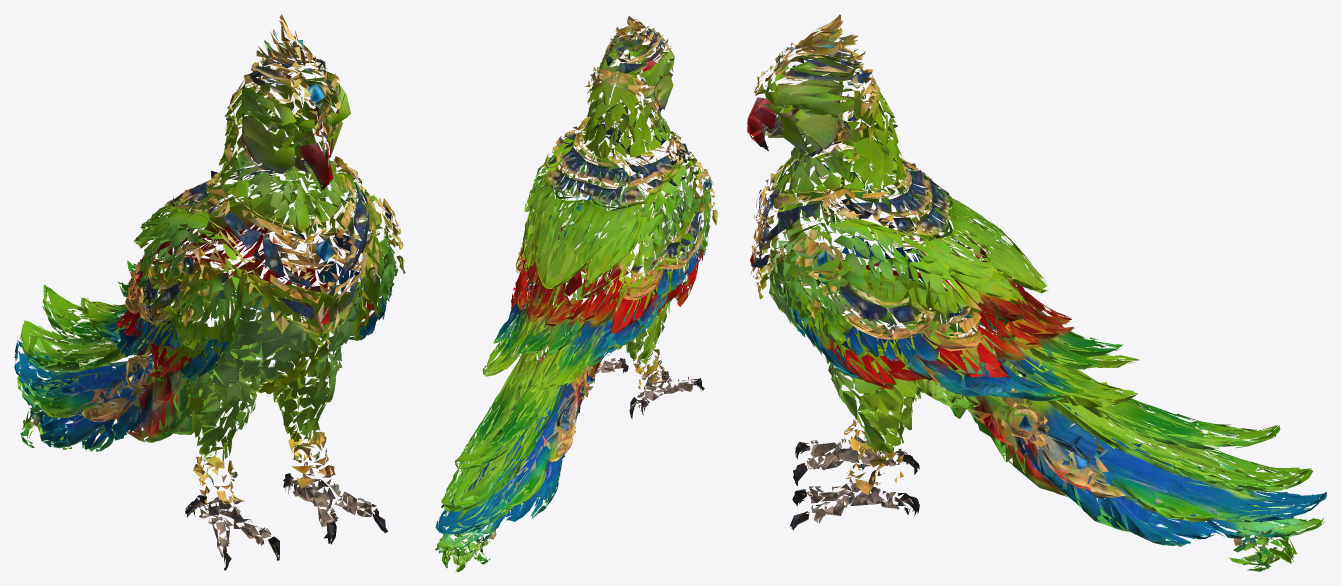
File: char_shuka.glb
3 views of the same model, side by side, from view 1: azimuth 30°, elevation 25°; view 2: azimuth 150°, elevation 25°; view 3: azimuth 270°, elevation 25° (orthographic). The views are drawn at different scales.
Visible parts, largest first — view 1: model; view 2: model; view 3: model.
Boxes of the visible parts, x1,y1,x2,y2 form: model: (14, 14, 405, 570); model: (435, 15, 718, 571); model: (747, 14, 1326, 571).
Bounding box in the file's own units: 0.3495 × 0.8969 × 0.8561.
Materials: 1 (1 with a texture image).
